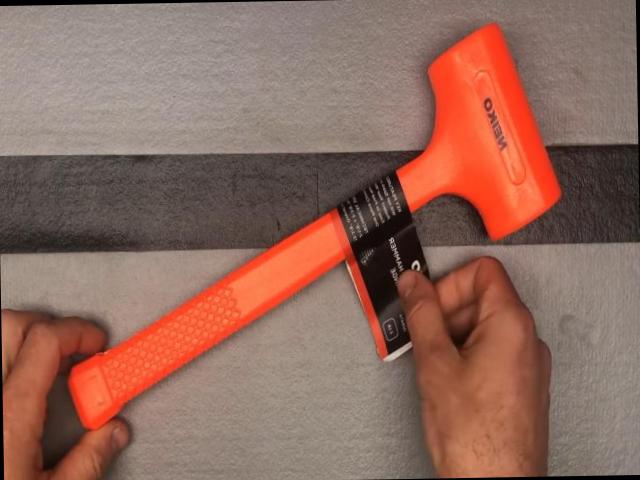hammer: (62, 22, 564, 428)
